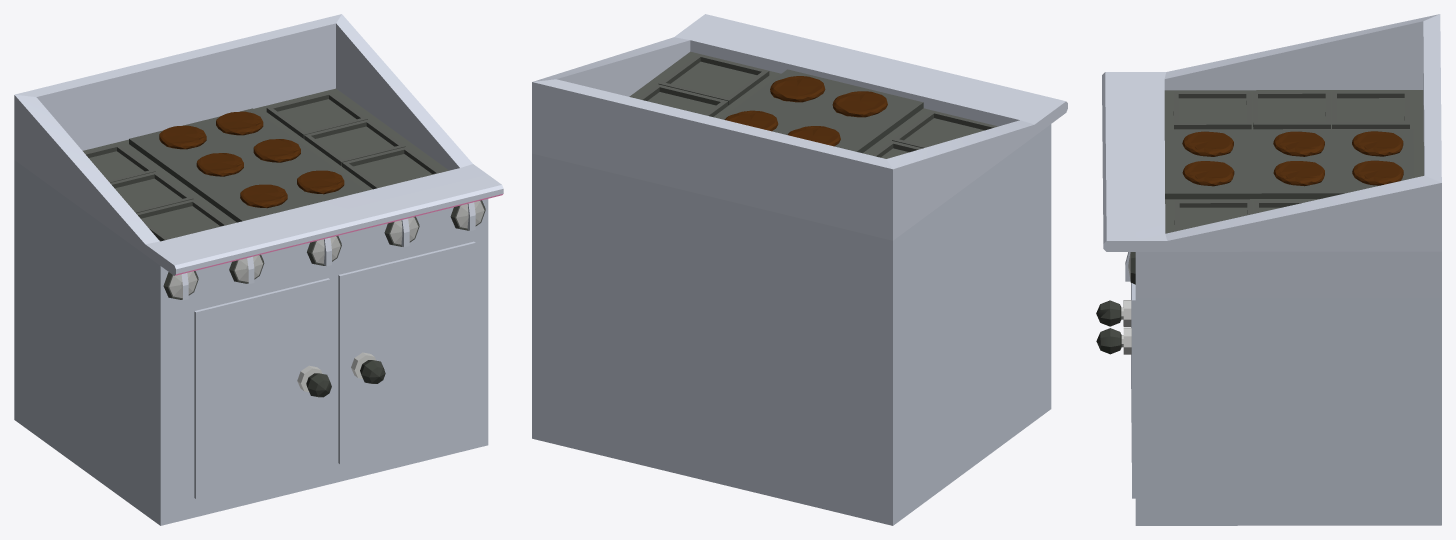
The model's file is Grill_Burgers.glb.
3 views of the same model, side by side, from view 1: azimuth 30°, elevation 25°; view 2: azimuth 150°, elevation 25°; view 3: azimuth 270°, elevation 25° (orthographic). The views are drawn at different scales.
Parts seen in each view (by area): view 1: Grill; view 2: Grill; view 3: Grill.
Part boxes in pixels (x1=…): Grill: x1=14, y1=14, x2=503, y2=525; Grill: x1=532, y1=14, x2=1067, y2=525; Grill: x1=1096, y1=14, x2=1441, y2=525.
Size of what is drawn, in the model's own units: 1.36 by 1.29 by 1.18.
1 material, 1 textured.
